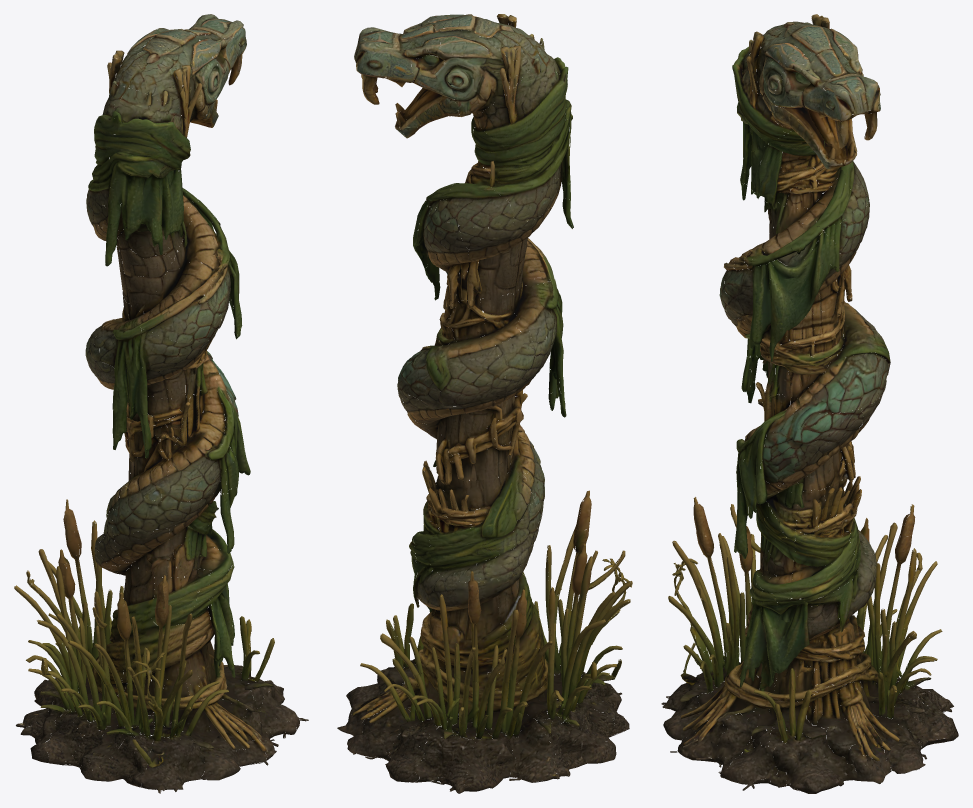
Rendered from bog-shrine-tripo.glb.
3 renders of one model, left to right at view 1: azimuth 30°, elevation 25°; view 2: azimuth 150°, elevation 25°; view 3: azimuth 270°, elevation 25°, orthographic. The views are drawn at different scales.
Parts seen in each view (by area): view 1: tripo_node_e25a9bdd-6dae-435a-8e2b-fc07a78b380b; view 2: tripo_node_e25a9bdd-6dae-435a-8e2b-fc07a78b380b; view 3: tripo_node_e25a9bdd-6dae-435a-8e2b-fc07a78b380b.
Boxes of the visible parts, left/top/right/bottom form: tripo_node_e25a9bdd-6dae-435a-8e2b-fc07a78b380b: left=14, top=14, right=308, bottom=793; tripo_node_e25a9bdd-6dae-435a-8e2b-fc07a78b380b: left=337, top=14, right=632, bottom=793; tripo_node_e25a9bdd-6dae-435a-8e2b-fc07a78b380b: left=661, top=14, right=958, bottom=793.
Bounding box in the file's own units: 0.3885 × 1 × 0.3796.
Materials: 1 (1 with a texture image).
